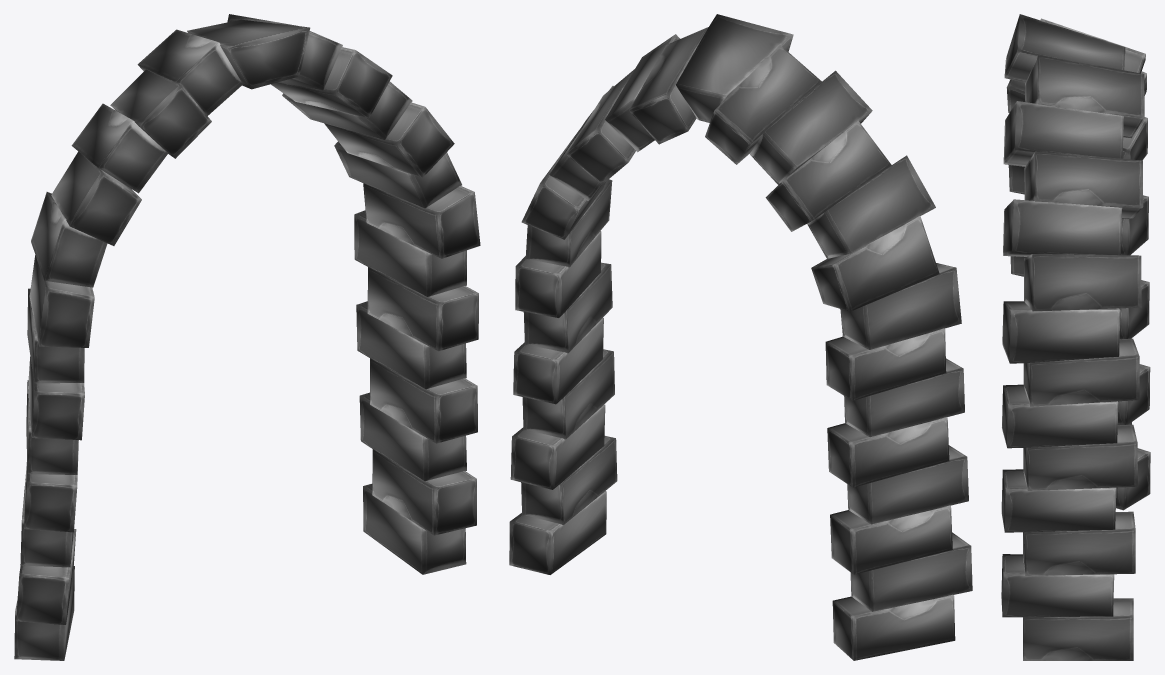
File: arch_4.fbx
The picture shows the model from 3 angles, left to right: view 1: azimuth 30°, elevation 25°; view 2: azimuth 150°, elevation 25°; view 3: azimuth 270°, elevation 25°; orthographic projection. The views are drawn at different scales.
Parts seen in each view (by area): view 1: arch_4; view 2: arch_4; view 3: arch_4.
Boxes of the visible parts, x1,y1,x2,y2 form: arch_4: (14,14,480,660); arch_4: (509,14,972,660); arch_4: (1001,14,1150,660).
Size of the model in its own units: 4.66 by 5.77 by 1.44.
